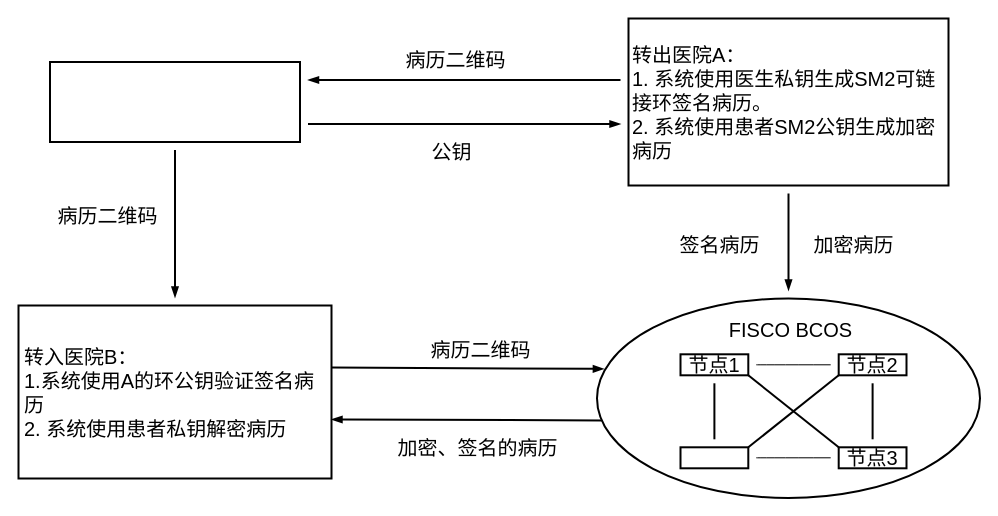
This 998x516 diagram has some shape labels left out. The box of each missing label's shape, as (x1, y1, x2, y2) in pixels:
患者: (48, 60, 300, 142)
节点4: (679, 446, 749, 469)
